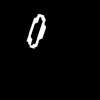chain: (27, 14, 45, 47)
